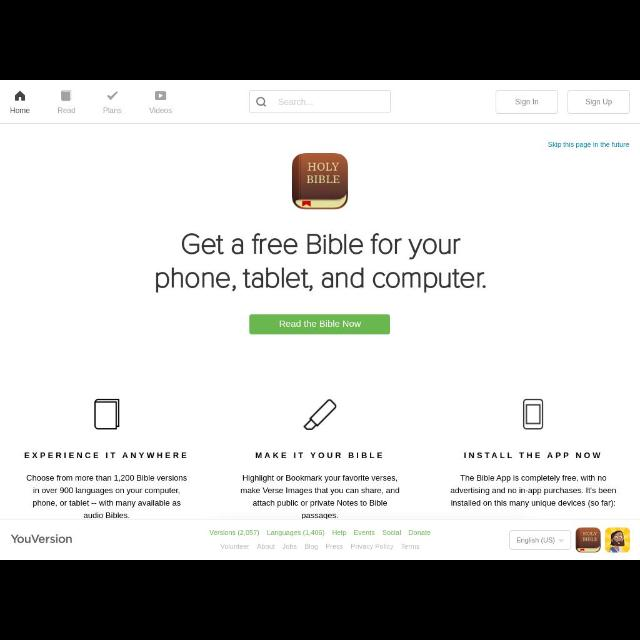icon: (304, 400, 336, 430), (94, 398, 120, 429), (523, 400, 543, 430), (256, 95, 266, 108), (154, 90, 166, 100), (14, 91, 24, 101), (62, 90, 72, 100), (107, 92, 117, 100), (558, 538, 566, 544)
image: (292, 154, 348, 210), (575, 528, 601, 554), (606, 528, 630, 554)
input: (250, 90, 390, 114)
spinner: (511, 532, 572, 548)
text: (155, 232, 487, 294), (26, 474, 188, 518), (240, 475, 400, 519), (450, 475, 618, 509), (463, 451, 601, 461), (24, 452, 186, 460), (255, 452, 382, 460), (278, 320, 362, 328), (547, 140, 629, 148), (12, 534, 72, 544), (208, 528, 260, 538), (266, 530, 324, 538), (278, 97, 314, 107), (350, 543, 394, 551), (516, 537, 554, 545), (584, 97, 614, 107), (515, 98, 539, 108), (220, 542, 248, 550), (408, 529, 432, 537), (9, 106, 31, 114), (149, 106, 171, 114), (332, 528, 348, 538), (354, 530, 374, 538), (58, 106, 76, 114), (103, 106, 121, 114), (257, 543, 275, 551), (326, 542, 344, 550), (401, 544, 421, 550), (383, 530, 402, 536), (282, 543, 296, 551), (304, 544, 318, 550)
textbutton: (250, 314, 390, 334), (496, 90, 558, 112), (568, 90, 630, 112)
toolbar: (1, 81, 639, 123)
